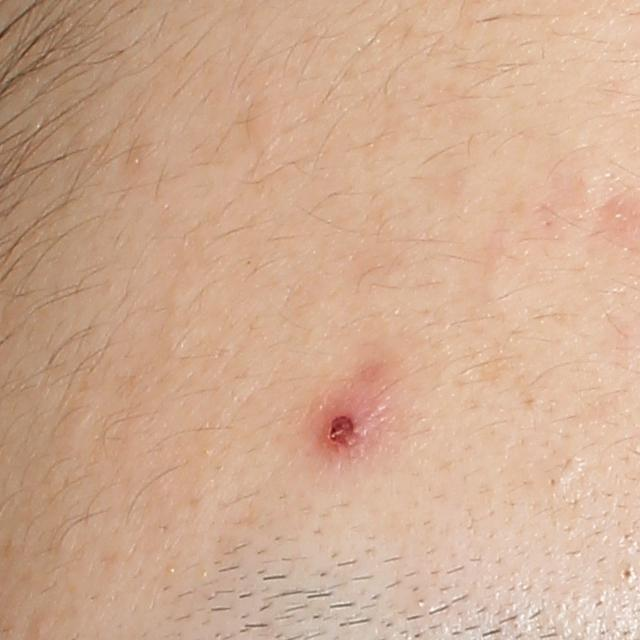papule: (316, 394, 388, 462)
